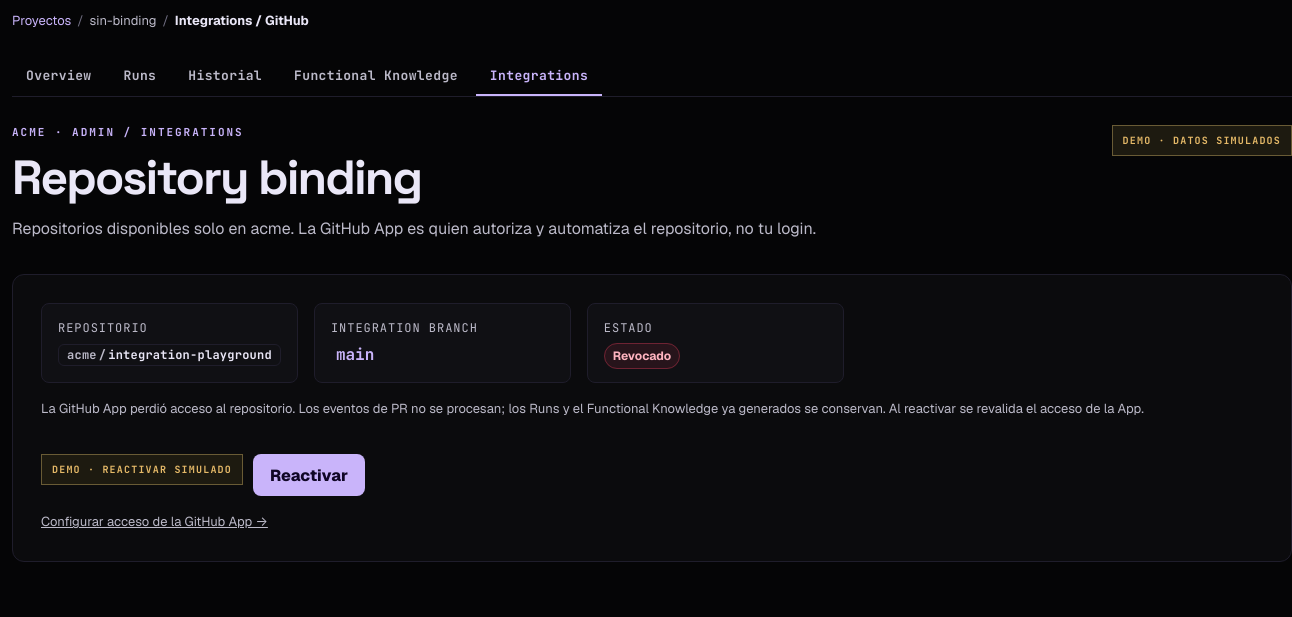
Test case: HU57: reactivar un REVOKED sin acceso de la App muestra el error con correlationId y el enlace para configurar la App
Click the button "Reactivar": click(309, 475) x1=253 y1=454 x2=365 y2=496
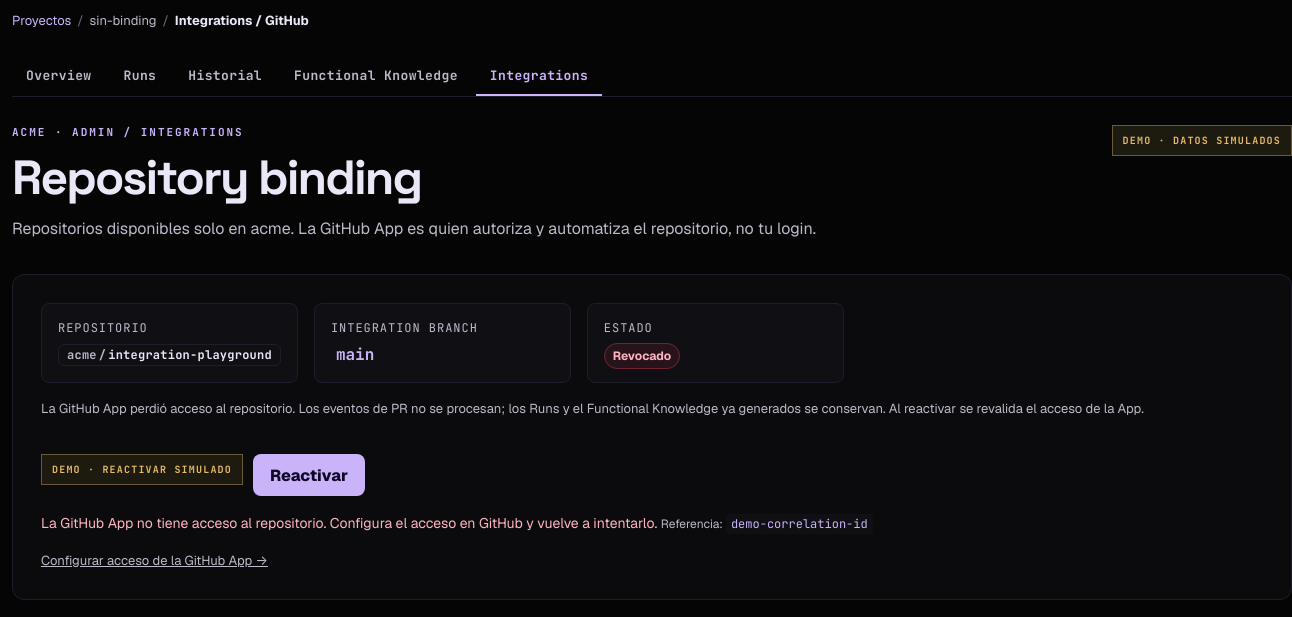
Expected: the text "Revocado" is shown, x1=604 y1=343 x2=680 y2=369
Expected: the message shows "La GitHub App no tiene acceso al repositorio", x1=41 y1=514 x2=657 y2=532
Expected: the message shows "demo-correlation-id", x1=731 y1=516 x2=868 y2=532
